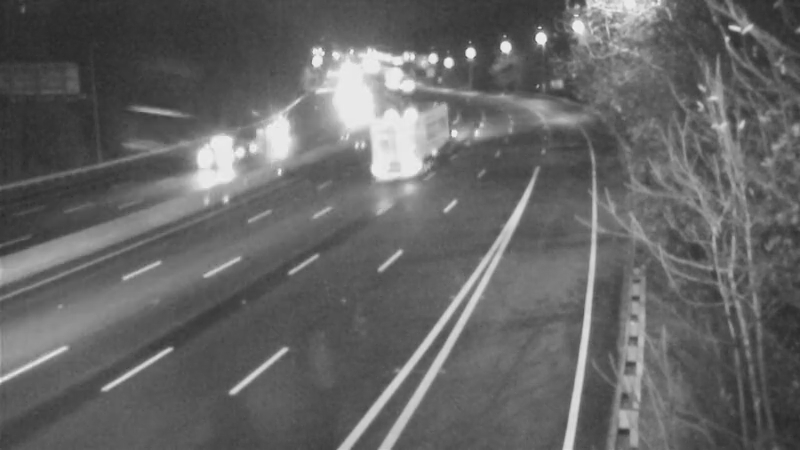vehicle: (165, 118, 245, 198), (367, 117, 417, 167), (257, 100, 307, 150)
